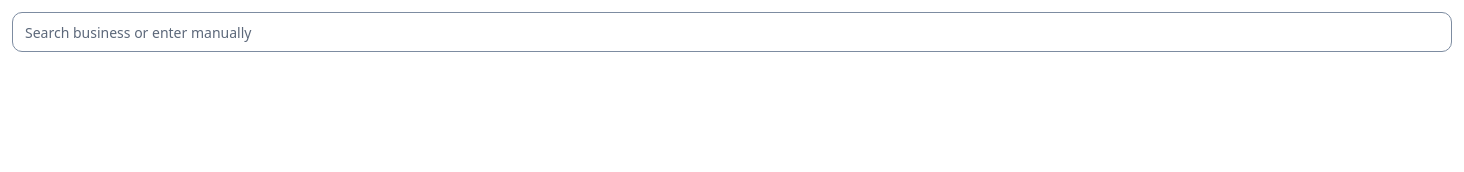
Test case: company box on the job form › says so when company search is unavailable
Type "acme" into the field with placeholder "Search business or enter manually" at (732, 32), box [12,12,1452,52]
Wait 500 ms
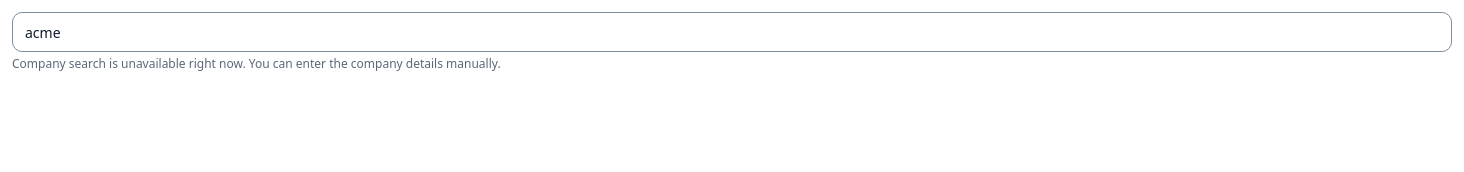
Result: the message shows "unavailable right now" at [12,55,501,72]
